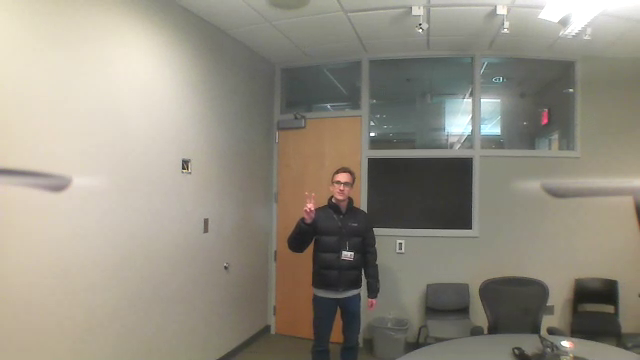peace: (298, 187, 319, 224)
